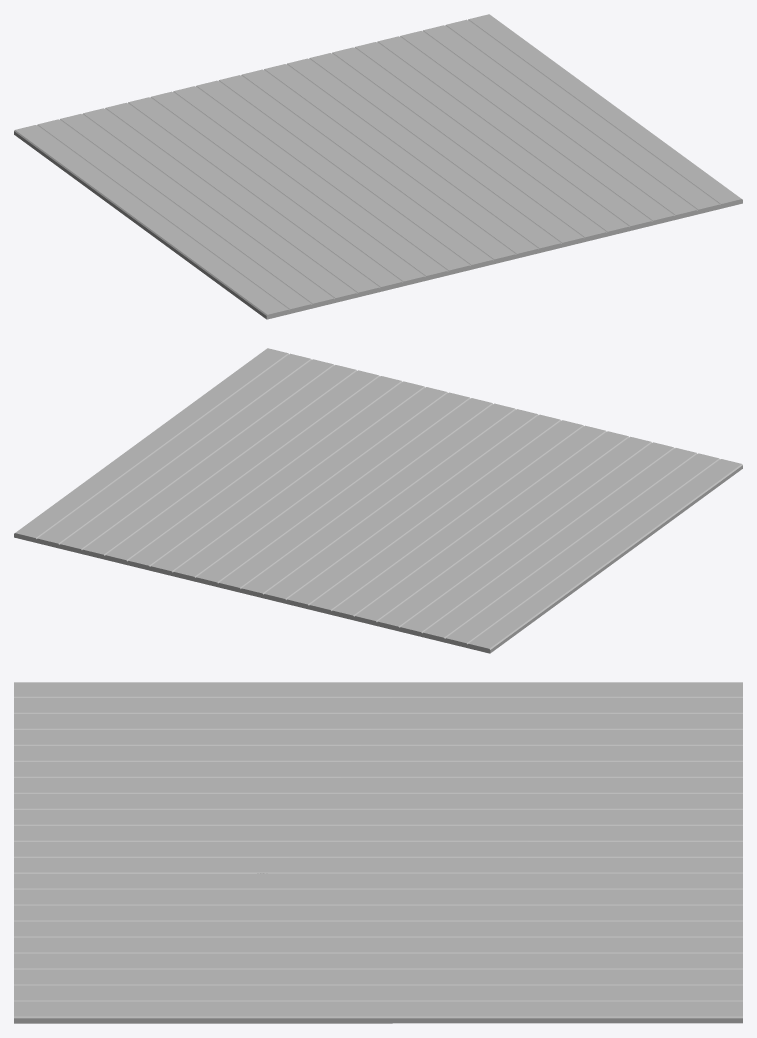
Rendered from Floor2.fbx.
3 views of the same model, one above another, from view 1: azimuth 30°, elevation 25°; view 2: azimuth 150°, elevation 25°; view 3: azimuth 270°, elevation 25° (orthographic). The views are drawn at different scales.
Parts seen in each view (by area): view 1: Floor2; view 2: Floor2; view 3: Floor2.
Boxes of the visible parts, x1,y1,x2,y2 form: Floor2: (14, 14, 742, 319); Floor2: (14, 348, 742, 653); Floor2: (14, 682, 742, 1023).
Bounding box in the file's own units: 265 × 2.55 × 244.
